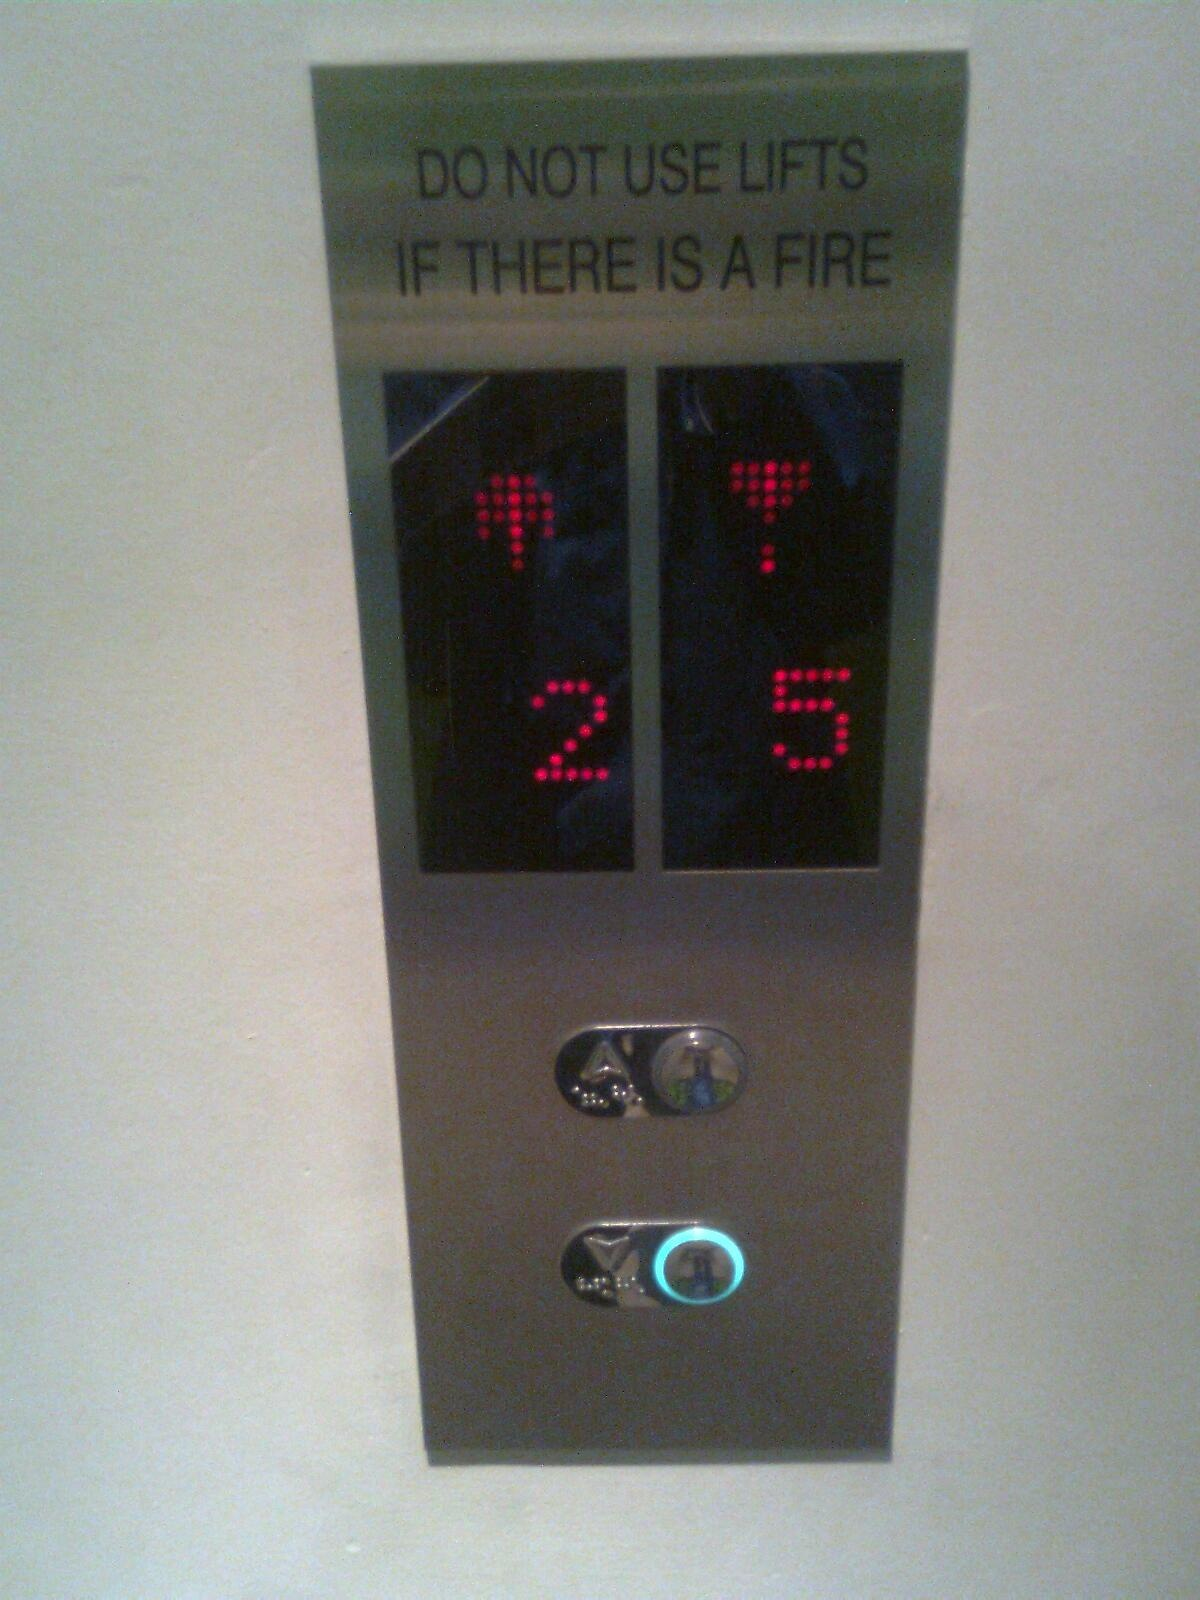down: (555, 1220, 745, 1311)
led: (379, 364, 639, 876), (653, 360, 901, 872)
up: (551, 1022, 745, 1123)
